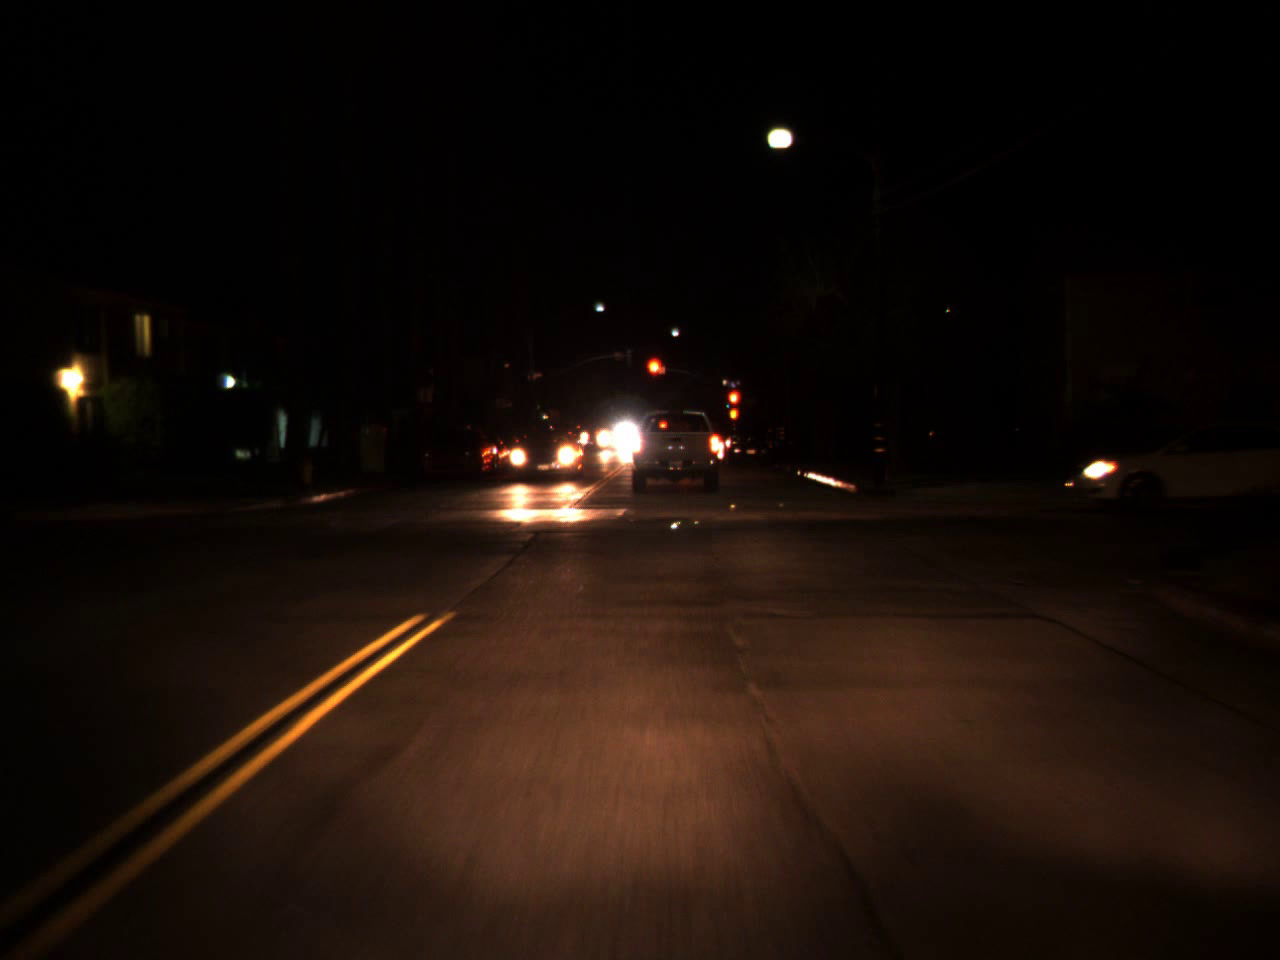stop: (643, 355, 662, 392), (726, 389, 741, 421)
